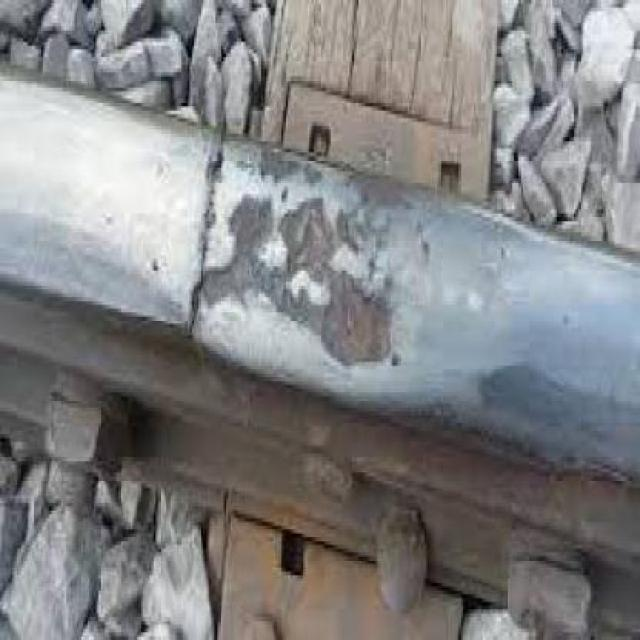defective: (163, 91, 542, 501)
